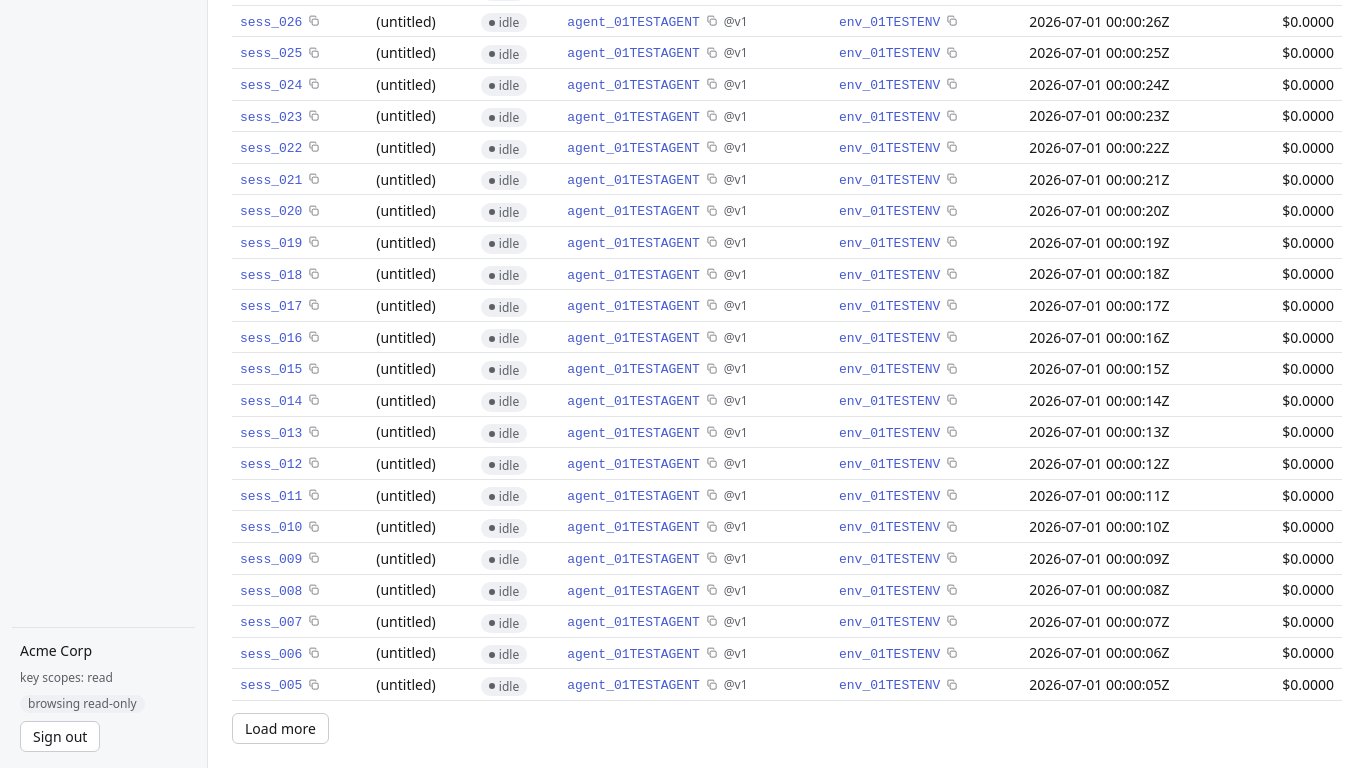
Test: sessions list (§7.3) › pages with Load more until the cursor is exhausted
(page scrolled)
Click the button "Load more": x=280, y=728 [232, 713, 329, 744]
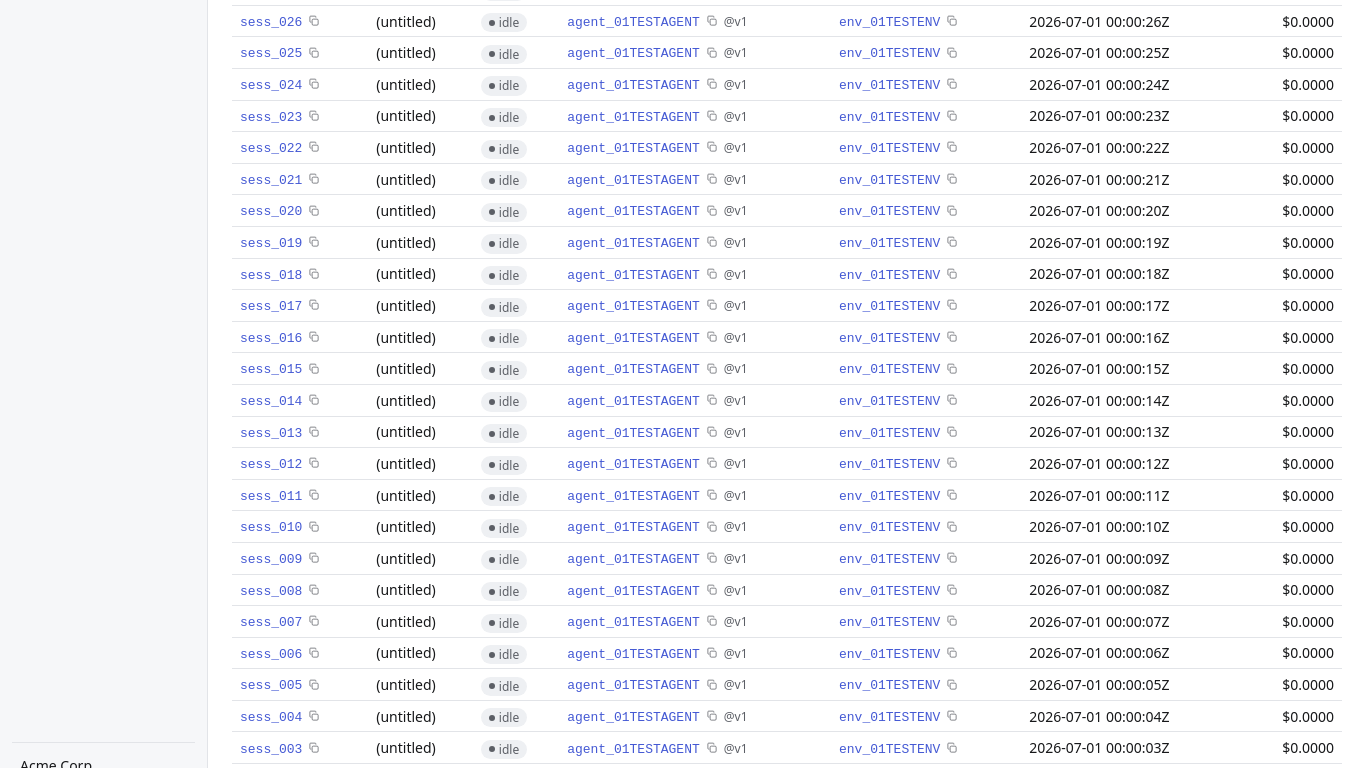
Now the button "Load more" is gone
